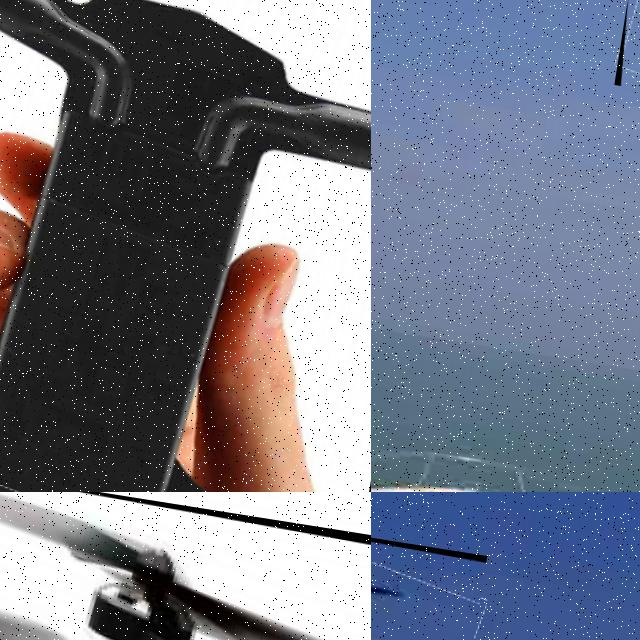drone: (0, 0, 371, 492), (0, 492, 371, 640), (371, 508, 487, 640)
